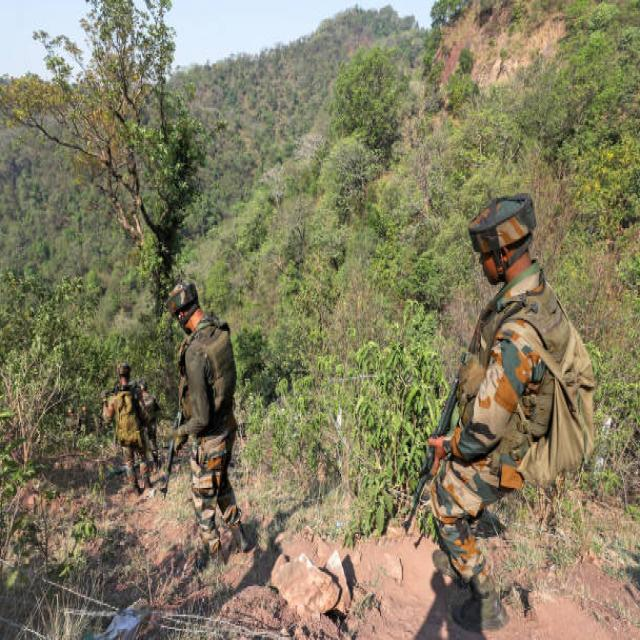soldier: (423, 193, 593, 630), (161, 282, 253, 571), (102, 361, 153, 495), (136, 377, 161, 468)
